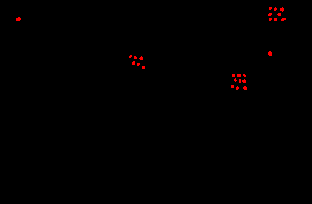Target: (280, 7, 284, 12), (16, 17, 21, 21), (268, 51, 272, 56), (139, 56, 143, 60), (242, 79, 246, 83), (243, 86, 247, 90), (281, 18, 286, 21), (274, 7, 277, 11), (268, 13, 272, 16), (277, 13, 281, 16), (132, 61, 135, 65), (237, 74, 241, 77), (234, 78, 237, 82), (236, 86, 239, 90), (269, 7, 272, 10), (269, 18, 272, 21), (274, 18, 277, 21), (129, 55, 132, 58), (134, 56, 137, 59), (137, 63, 140, 66), (142, 66, 145, 69), (232, 74, 235, 77), (243, 74, 246, 77), (231, 85, 234, 88), (239, 79, 241, 83)
